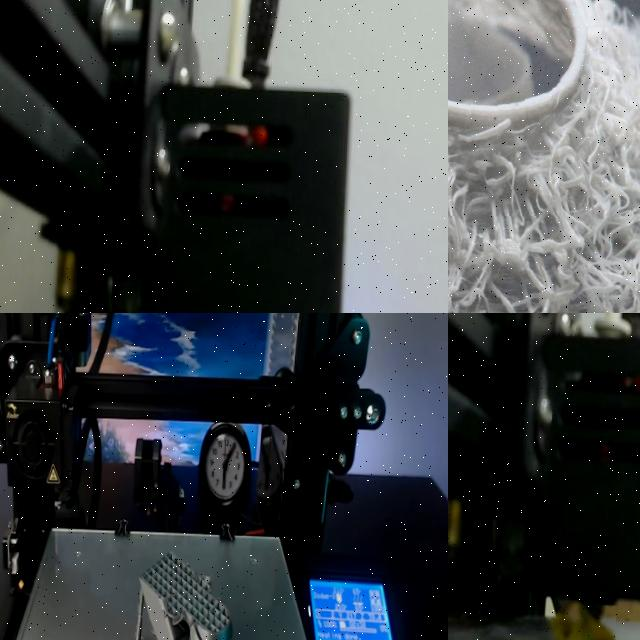spaghetti: (448, 0, 640, 313), (541, 603, 616, 640)
